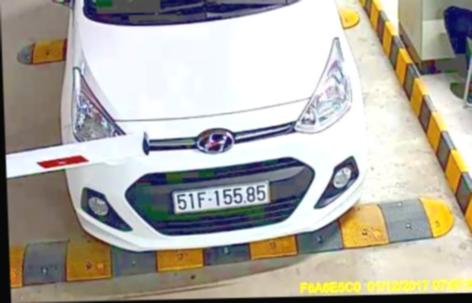License_Plate: (170, 182, 272, 212)
